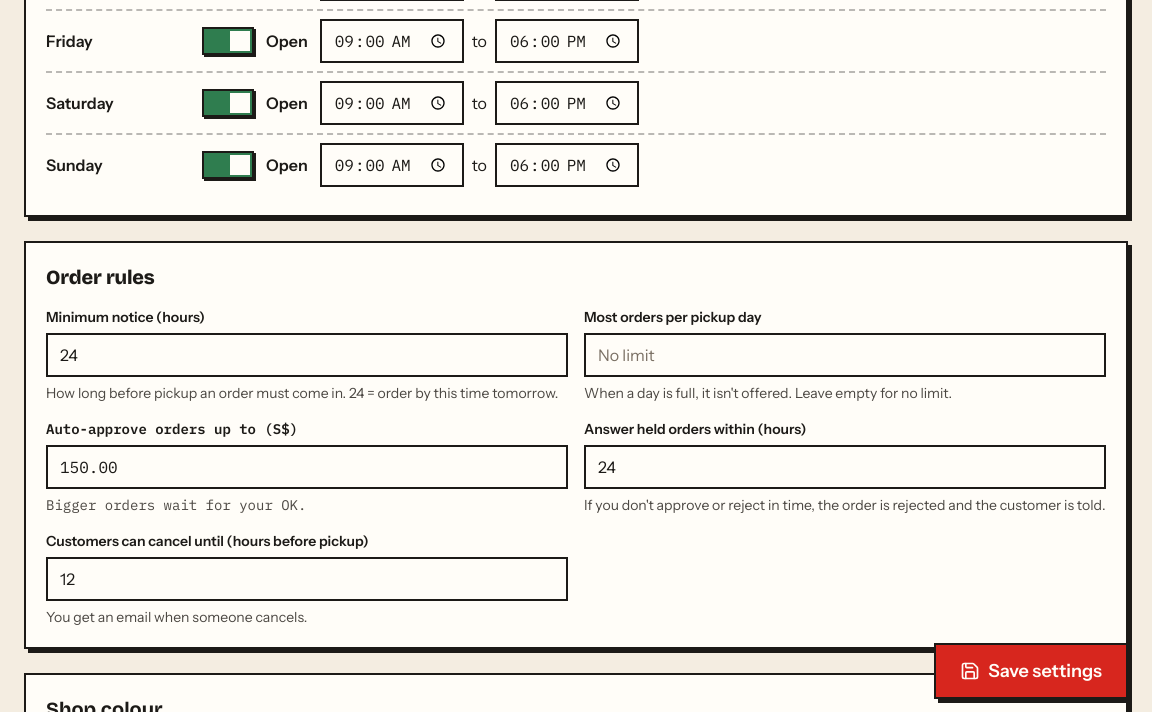
it: owner settings › shows the weekly hours and saves every setting in one go
(page scrolled)
Type "8" into the field labelled "Most orders per pickup day". click: (845, 355)
box: [584,333,1106,377]
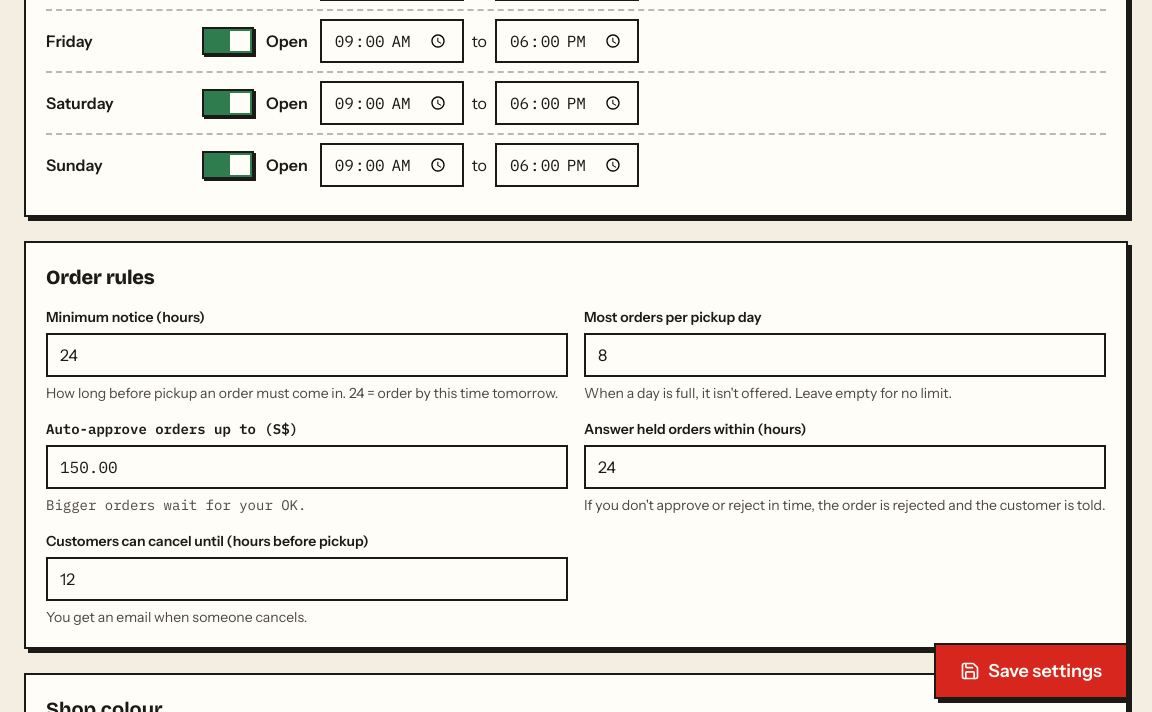
Replace the text in the field labelled "Minimum notice (hours)" with "48". click: (307, 355)
box: [46,333,568,377]
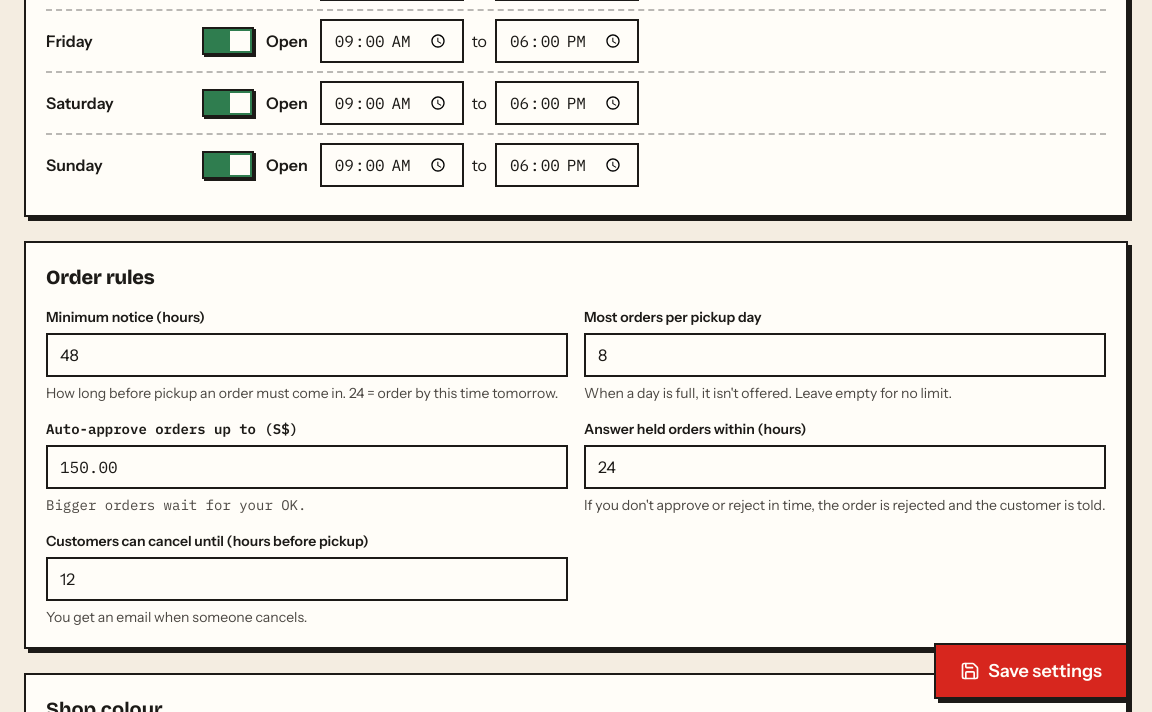
Replace the text in the time field named "Saturday closes" with "13:00". click: (567, 103)
box: [495,81,639,125]
(page scrolled)
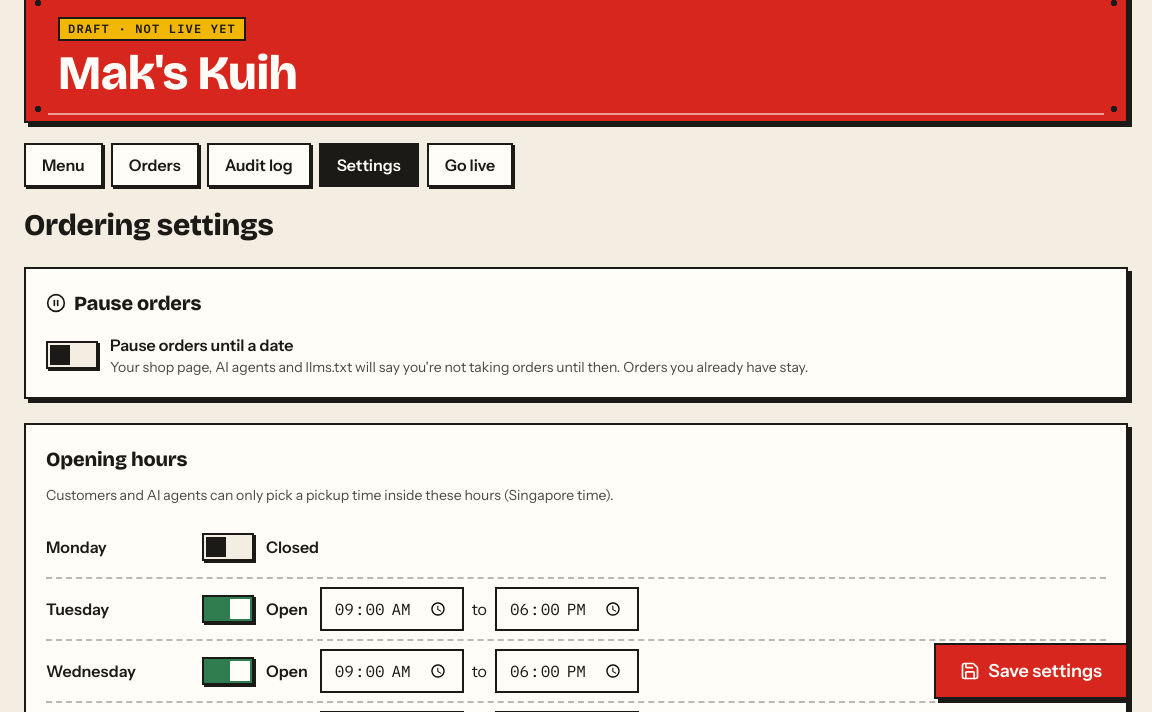
Click the switch named "Pause orders". click: click(72, 355)
box: [46,341,98,369]
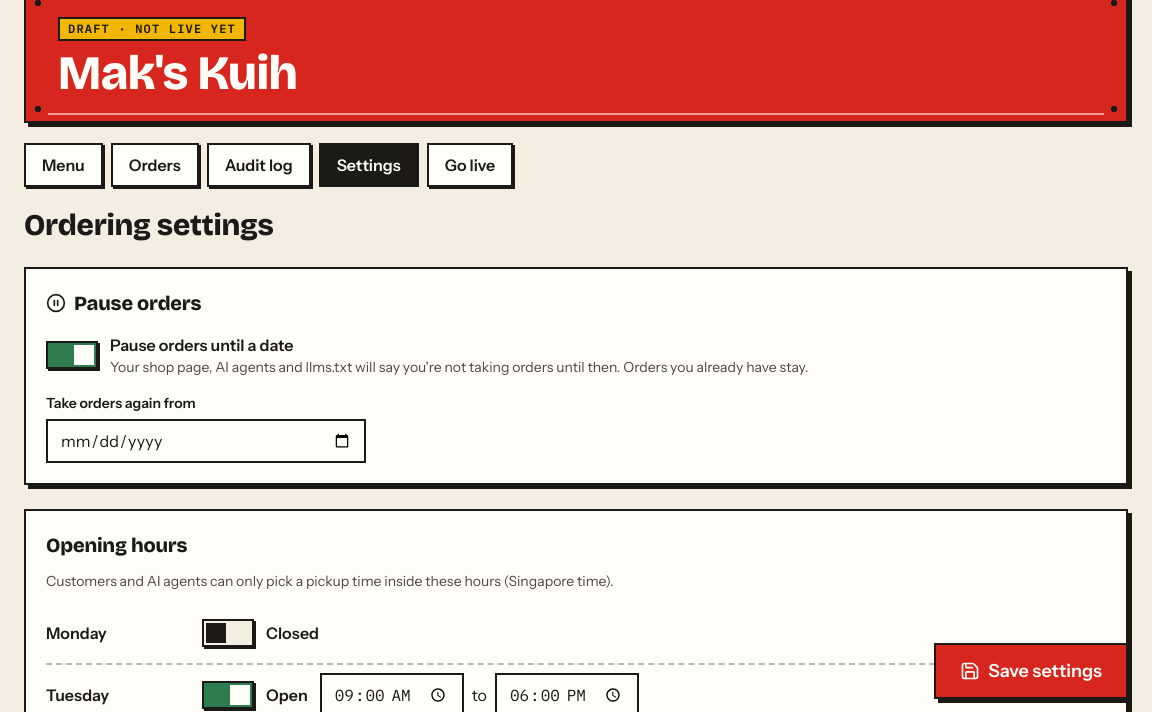
Type "2099-01-05" into the date field labelled "Take orders again from". click: (206, 441)
box: [46,419,366,463]
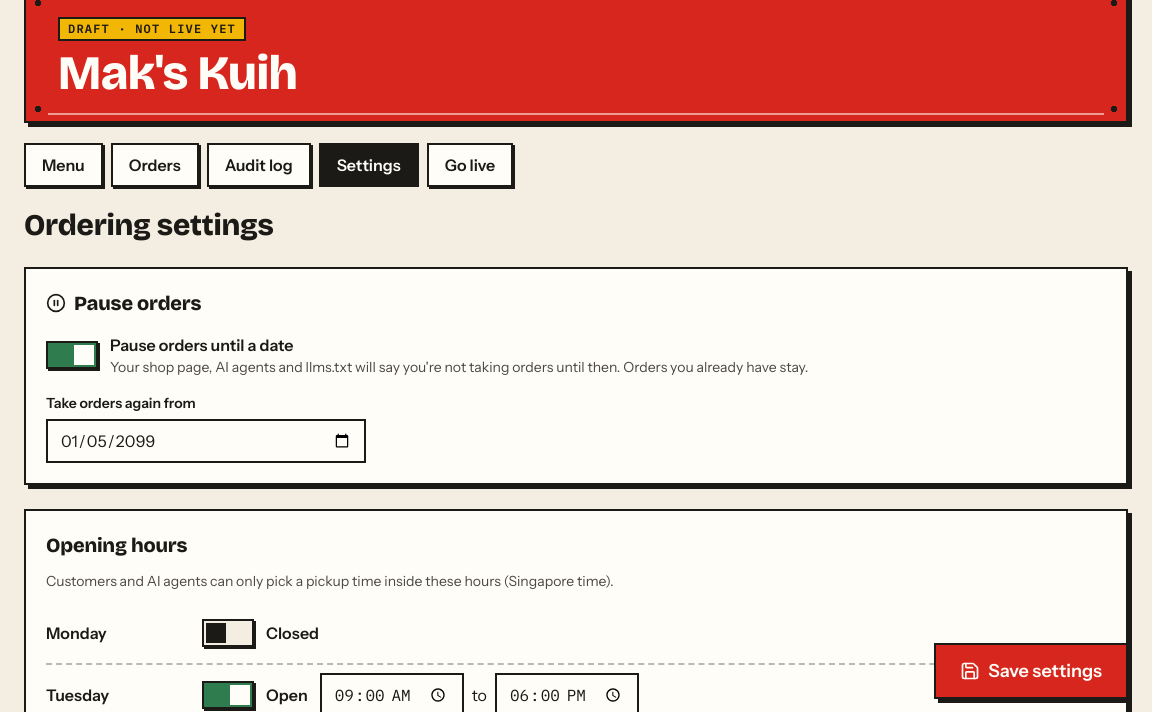
Click the button "Save settings". click: click(1031, 671)
box: [934,643,1128,699]
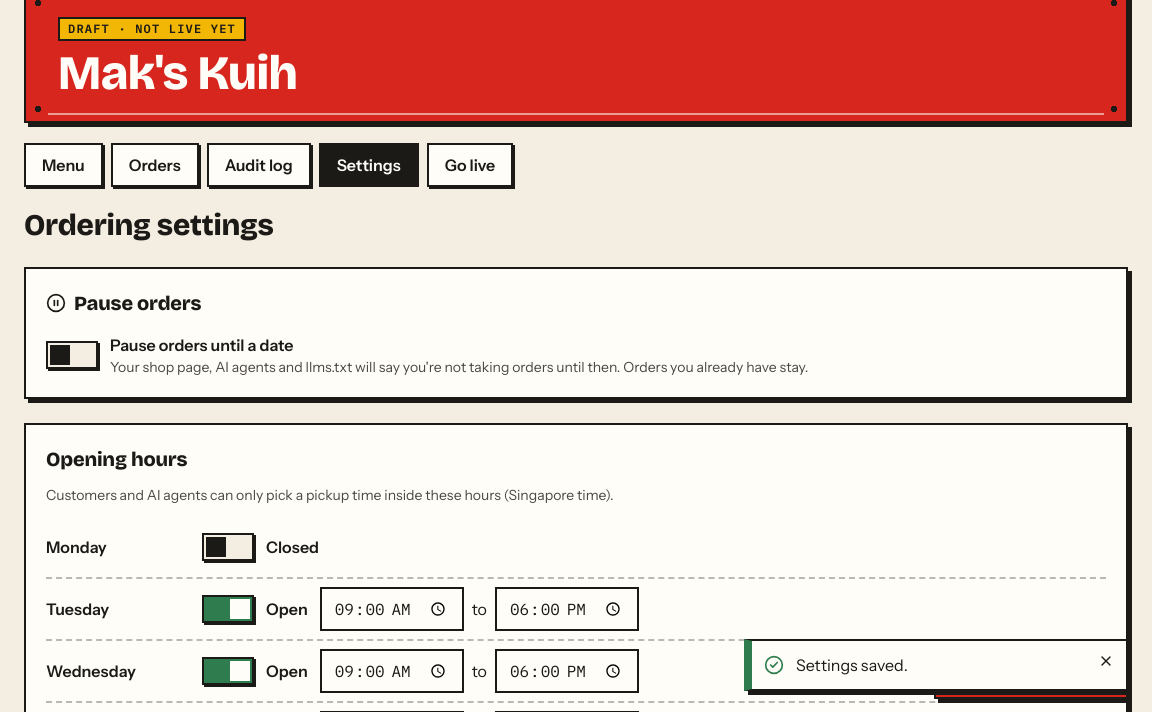
Now the text "Settings saved." is shown, box [795,654,908,675]
